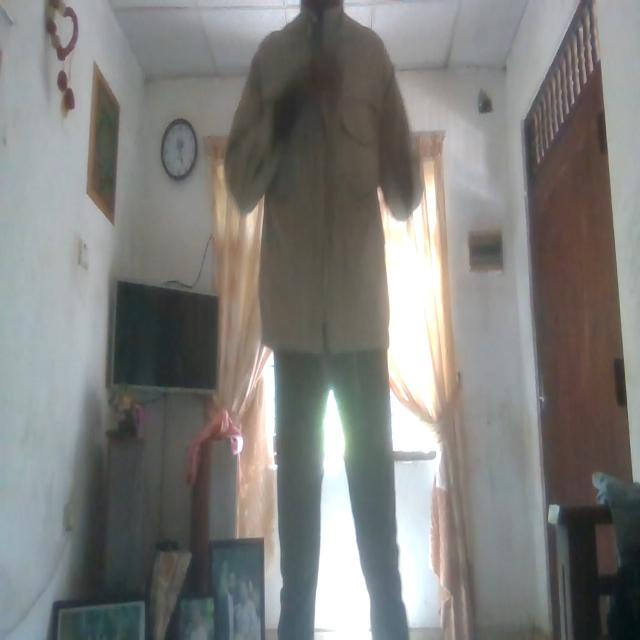Jacket_Wearer: (239, 3, 425, 349)
Person: (229, 2, 430, 640)
